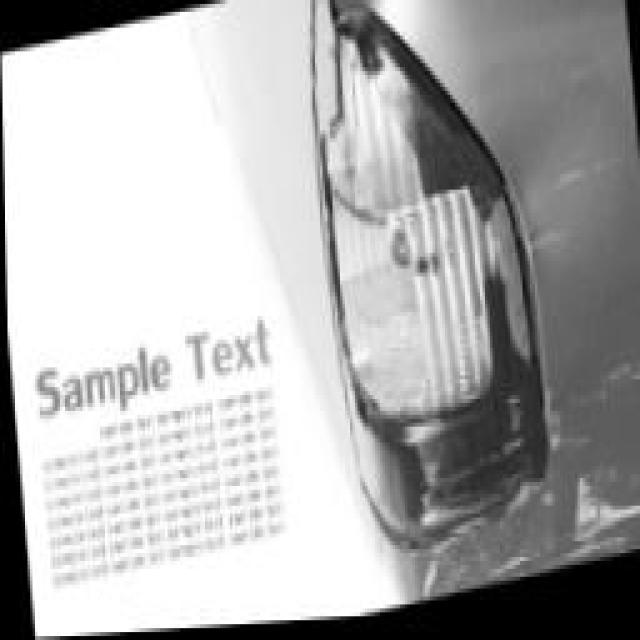Fender: (397, 142, 640, 610)
Light: (305, 0, 543, 528)
